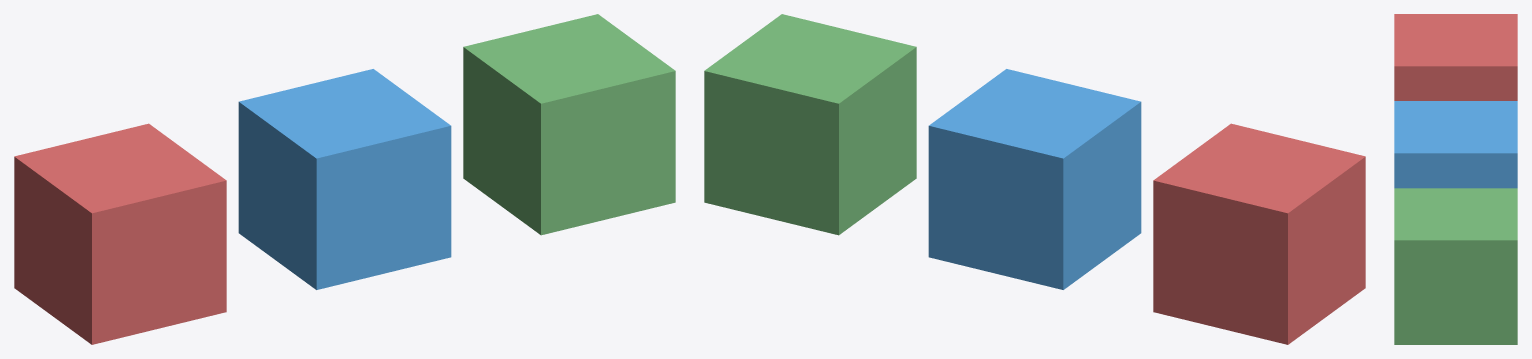
3 views of the same model, side by side, from view 1: azimuth 30°, elevation 25°; view 2: azimuth 150°, elevation 25°; view 3: azimuth 270°, elevation 25° (orthographic). The views are drawn at different scales.
Bounding box in the file's own units: 0.13 × 0.028 × 0.03.
